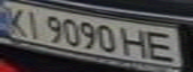0: (97, 22, 118, 54), (60, 16, 81, 47)
9: (39, 12, 66, 44), (78, 19, 100, 51)
E: (142, 29, 184, 63)
H: (121, 25, 154, 58)
I: (21, 8, 48, 39)
K: (0, 3, 30, 36)
